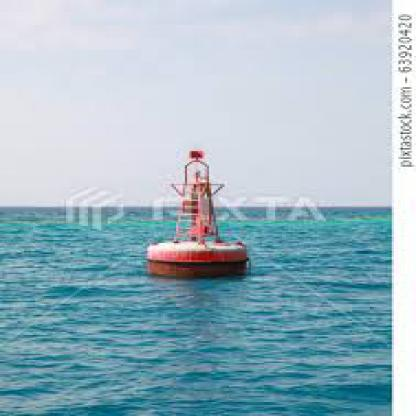buoy: (134, 140, 260, 270)
